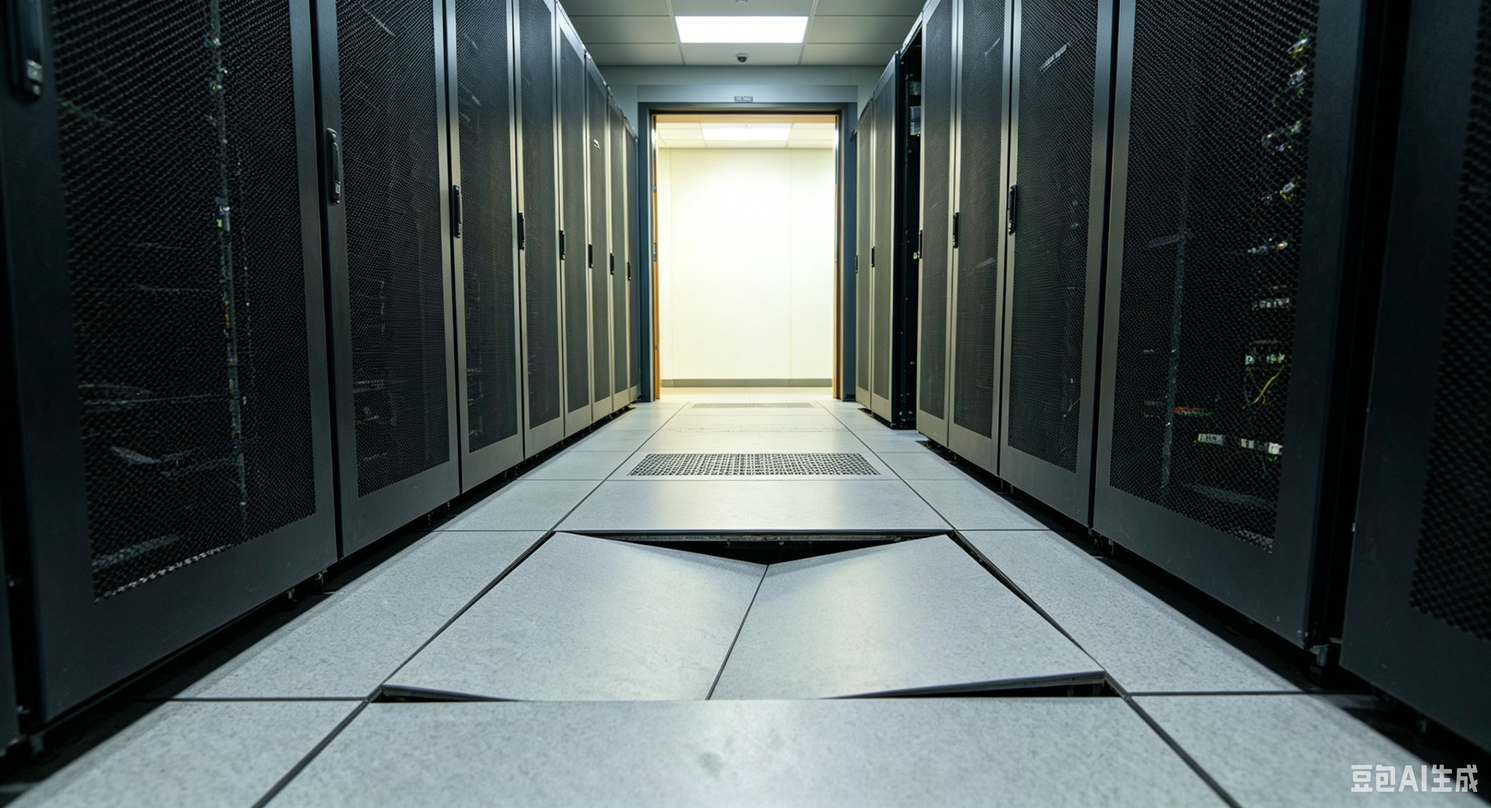floor_defect: (364, 525, 1129, 713)
